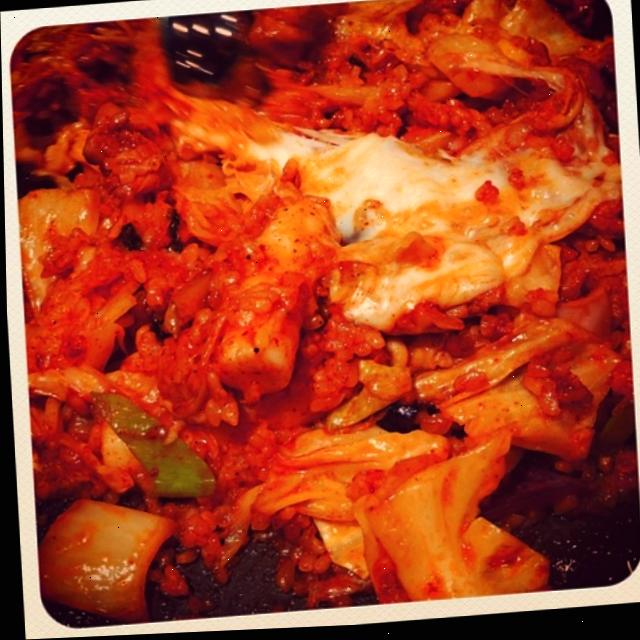鸡肉料理 含炸鸡: (13, 4, 626, 611)
